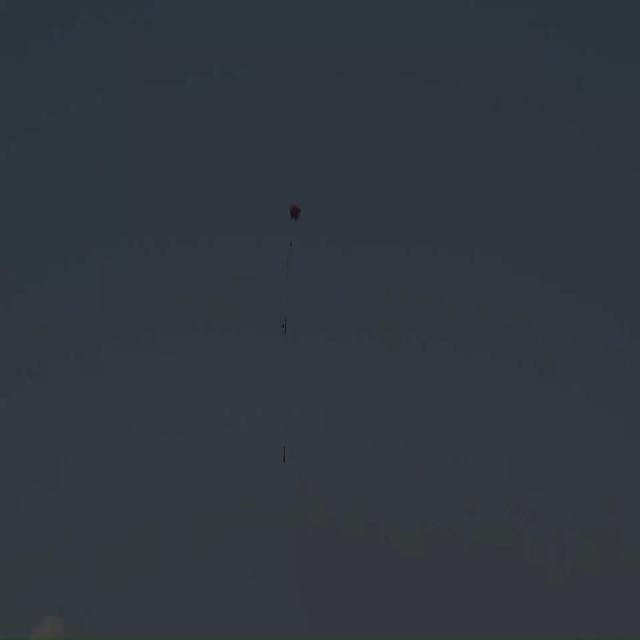Rocket: (283, 446, 285, 462)
